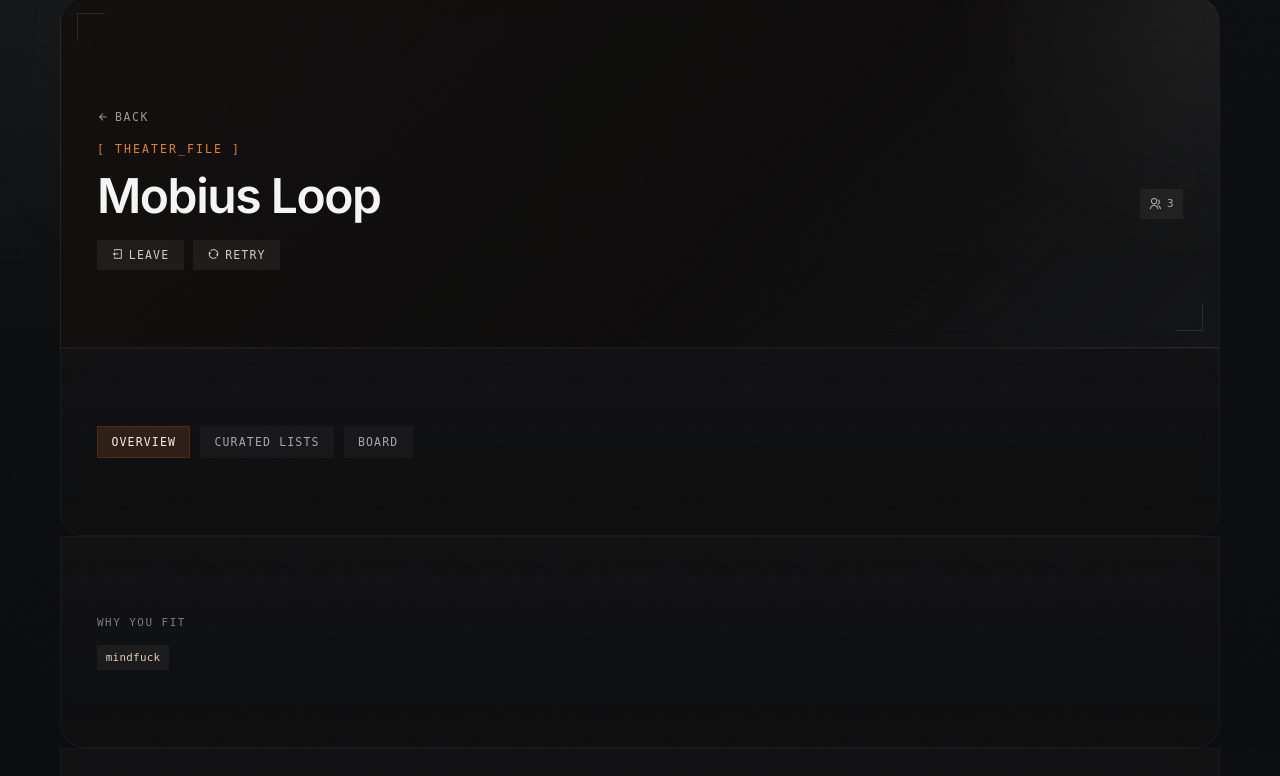
Test: TheaterDetailPage › updates list title and description
The image size is (1280, 776).
Click the tab "Curated Lists".
click(267, 442)  # box [200,426,334,458]
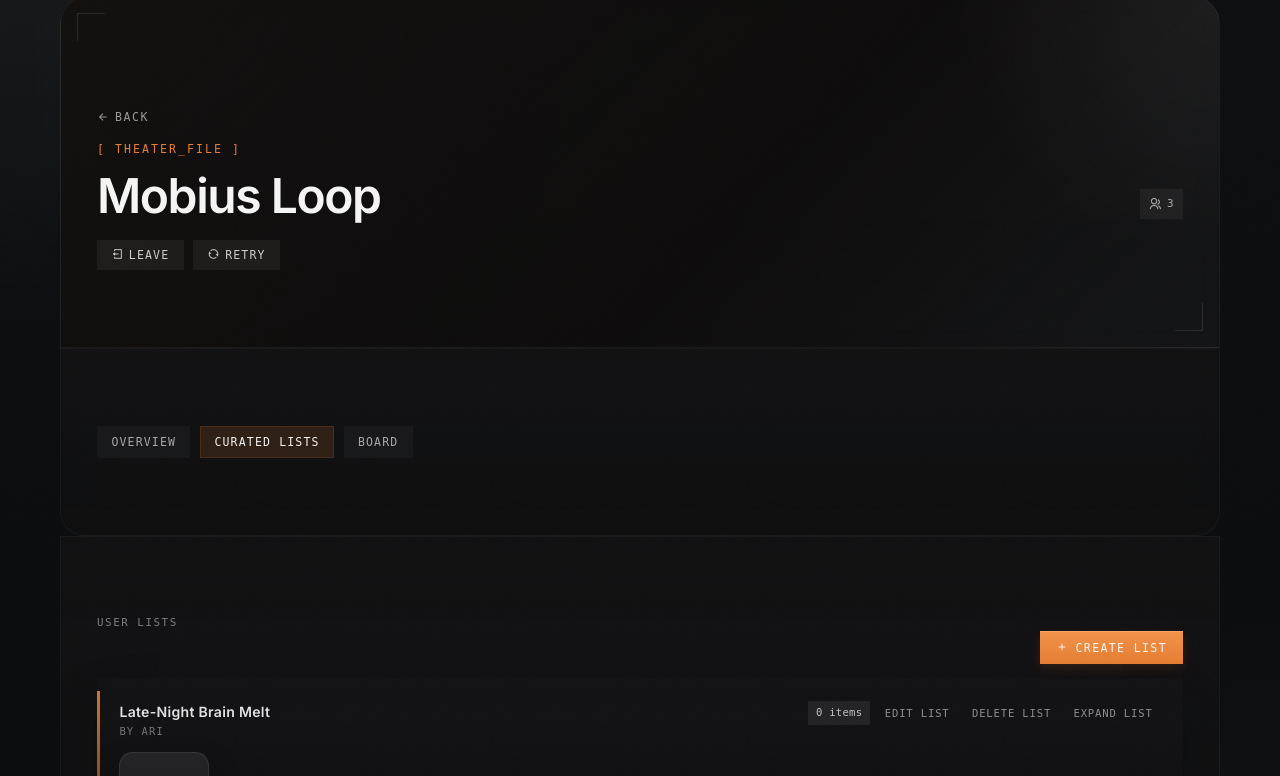
Check: the text "Late-Night Brain Melt" is shown, box [119,701,270,723]
Click the button "Edit List".
click(917, 713)  # box [877,702,958,723]
(page scrolled)
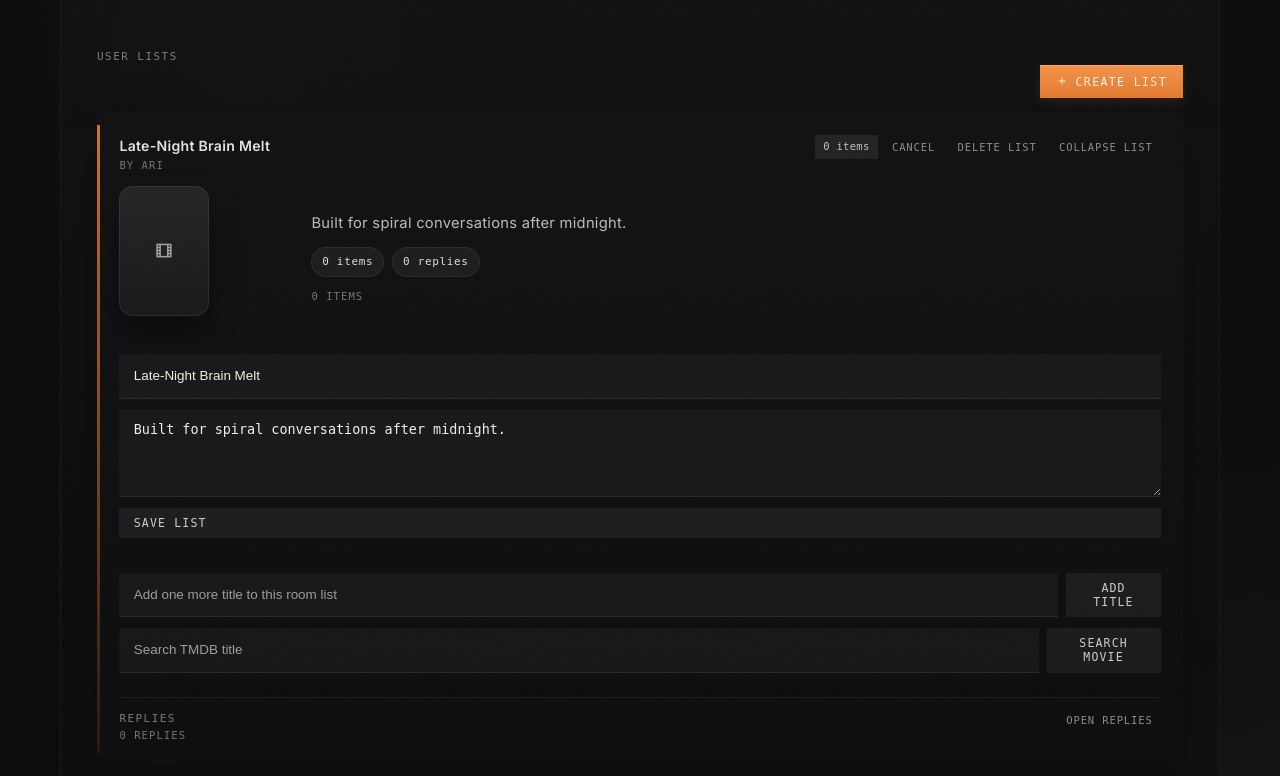
Replace the text in the field with placeholder "List title" with "Midnight Rotation" at [640, 376], box [119,354,1161,399]
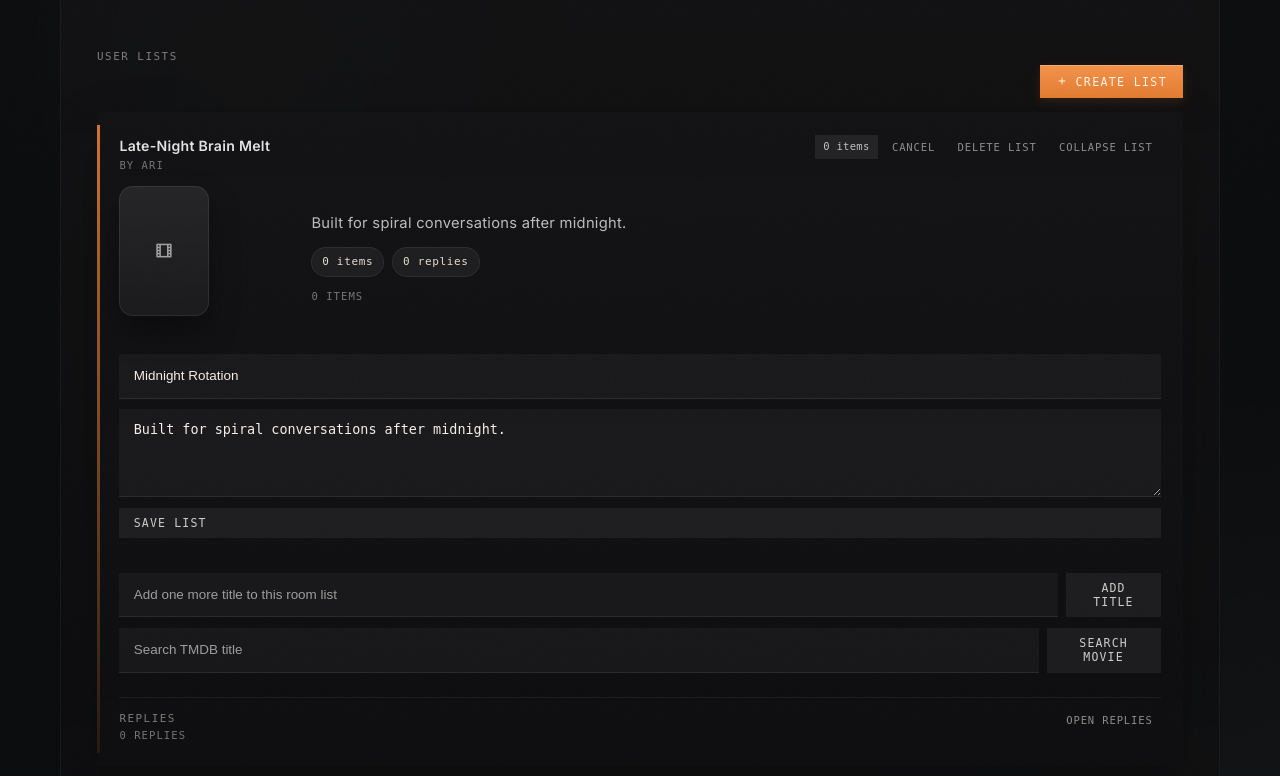
Replace the text in the text box with placeholder "List description" with "For after the room goes quiet." at [640, 453], box [119,409,1161,497]
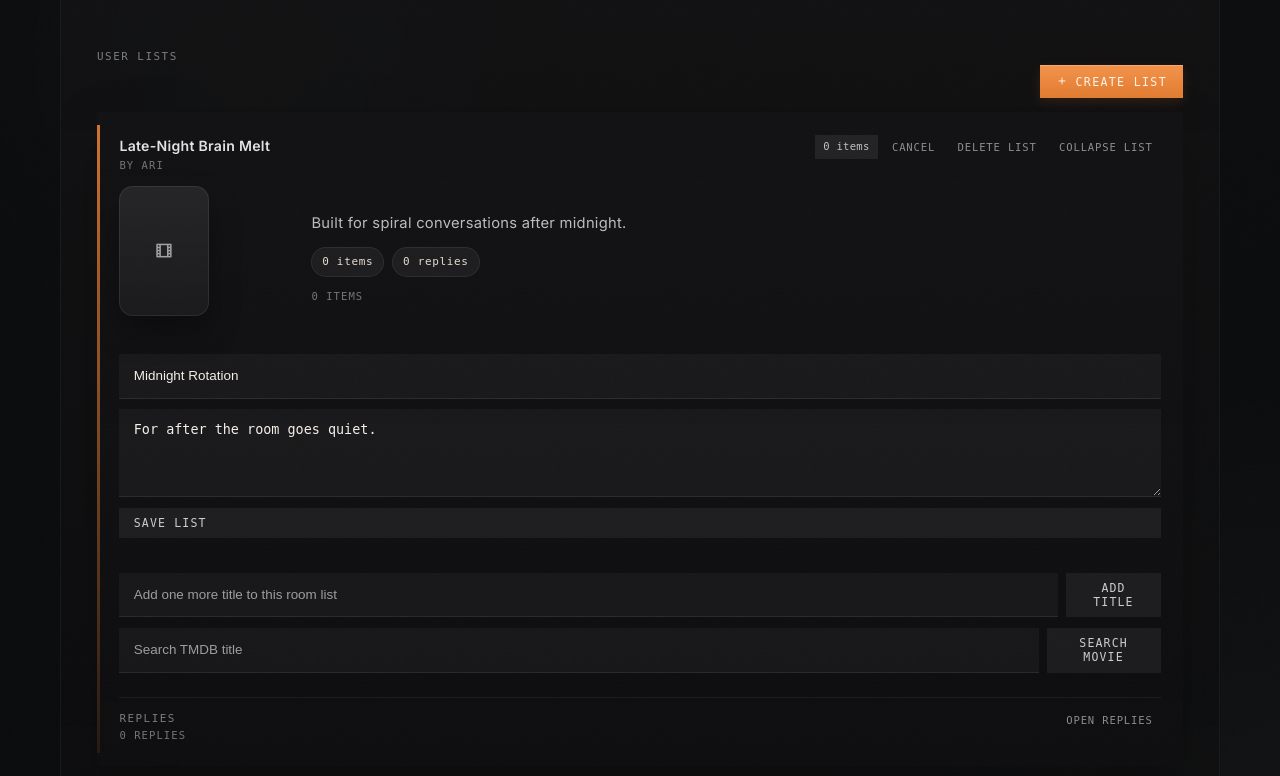
Check: the button "Save List" is enabled
Click the button "Save List".
click(170, 523)  # box [119,508,1161,538]
(page scrolled)
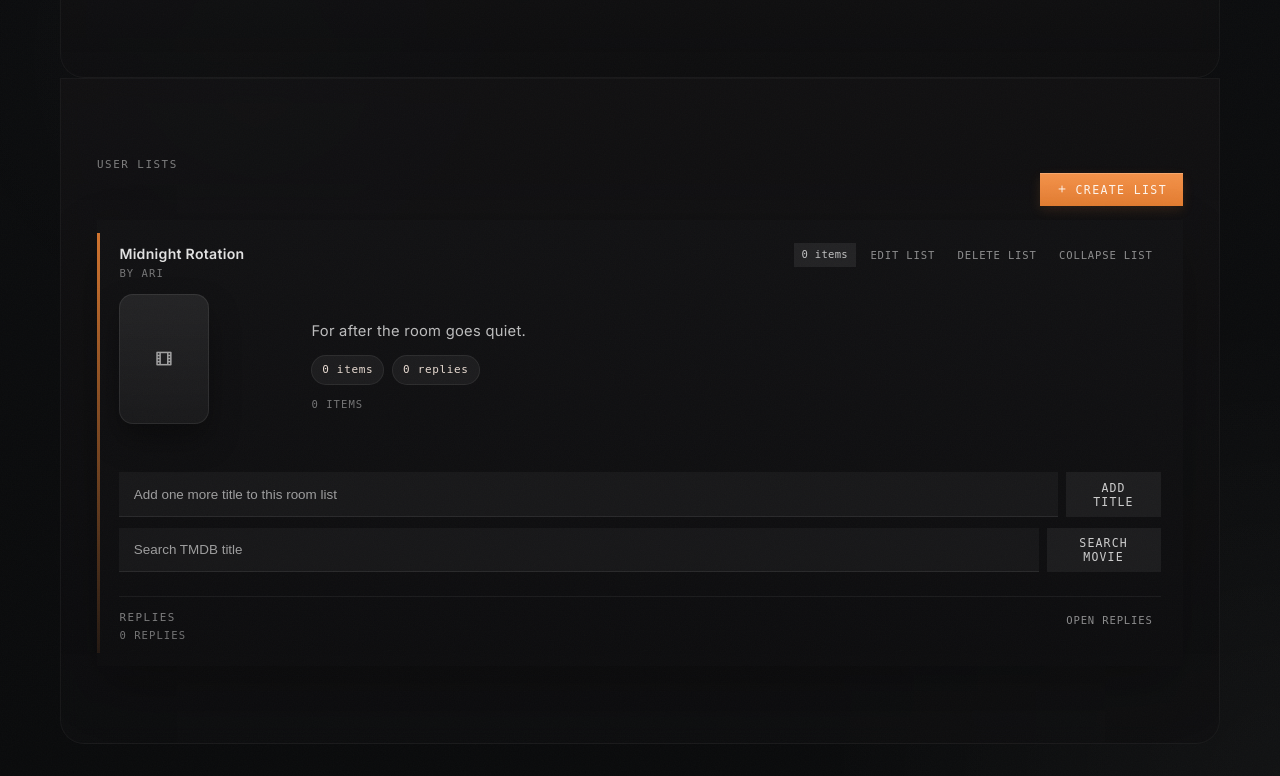
Check: the text "Midnight Rotation" is shown, box [119,243,244,265]
Check: the text "For after the room goes quiet." is shown, box [311,322,526,340]
